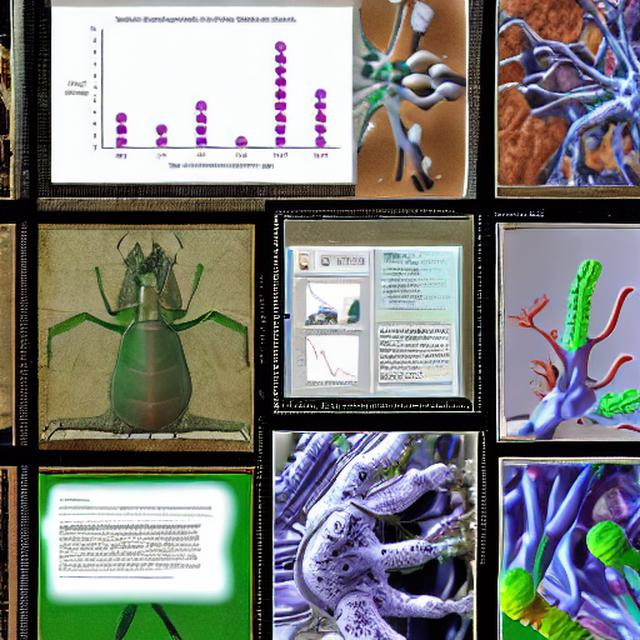Graph: (55, 7, 347, 178), (292, 328, 371, 387)
